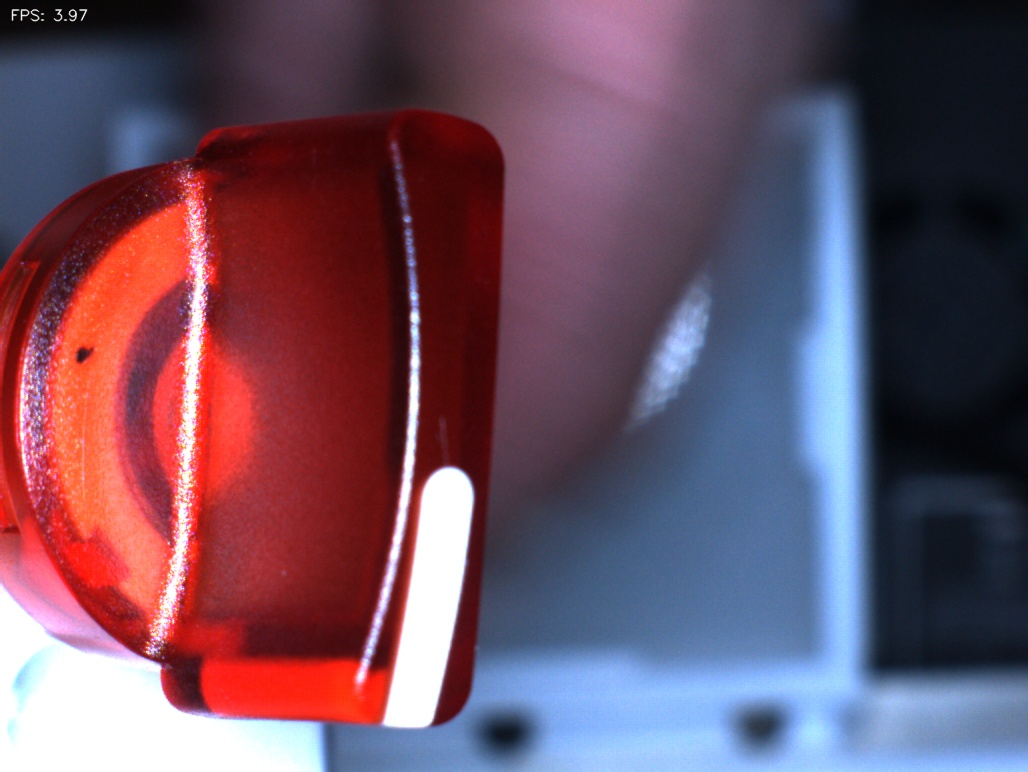PointNoir: (37, 310, 122, 391)
